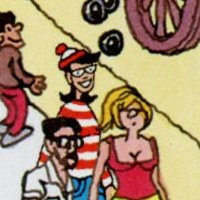wenda: (59, 42, 97, 105)
